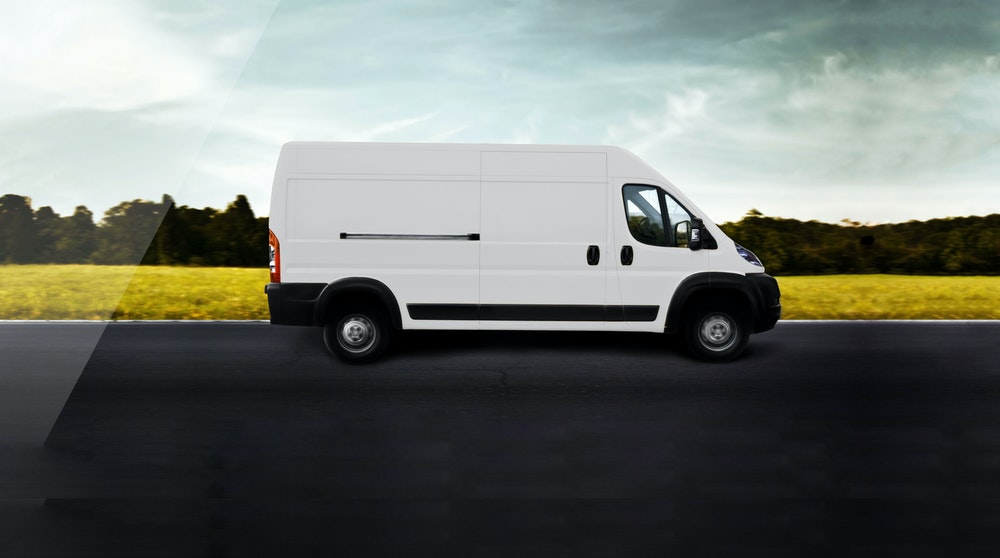van: (270, 137, 784, 361)
